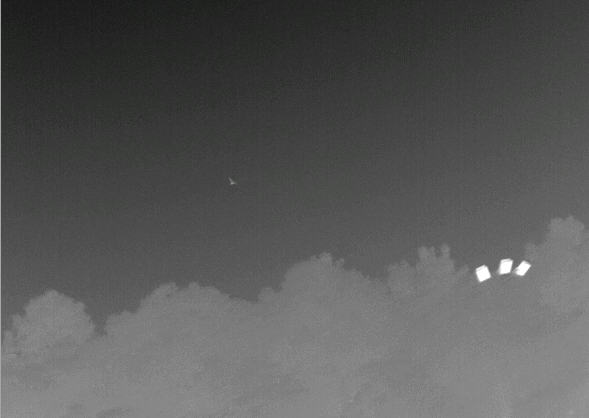dim target: (227, 176, 238, 185)
